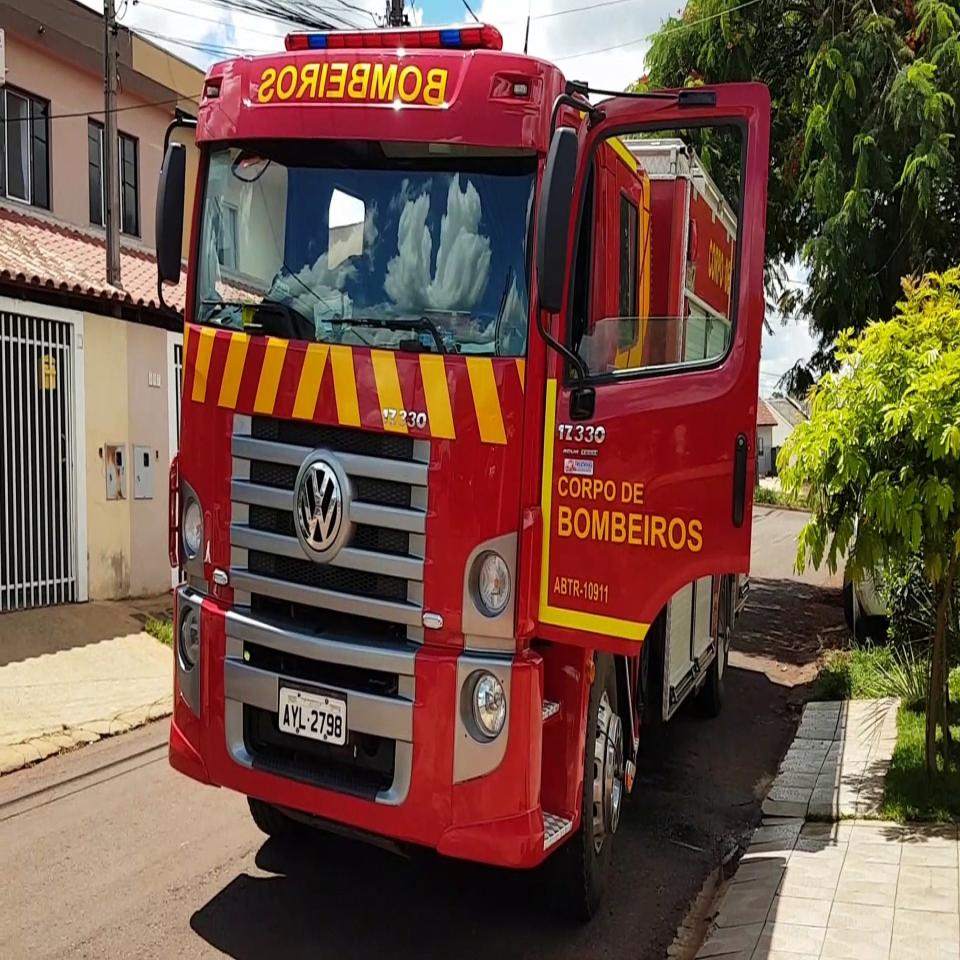viatura: (155, 27, 771, 923)
